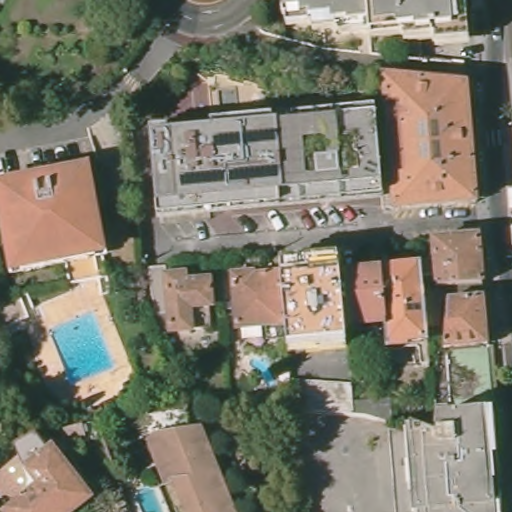pool: (55, 312, 117, 381), (249, 353, 280, 391), (130, 484, 164, 510)
